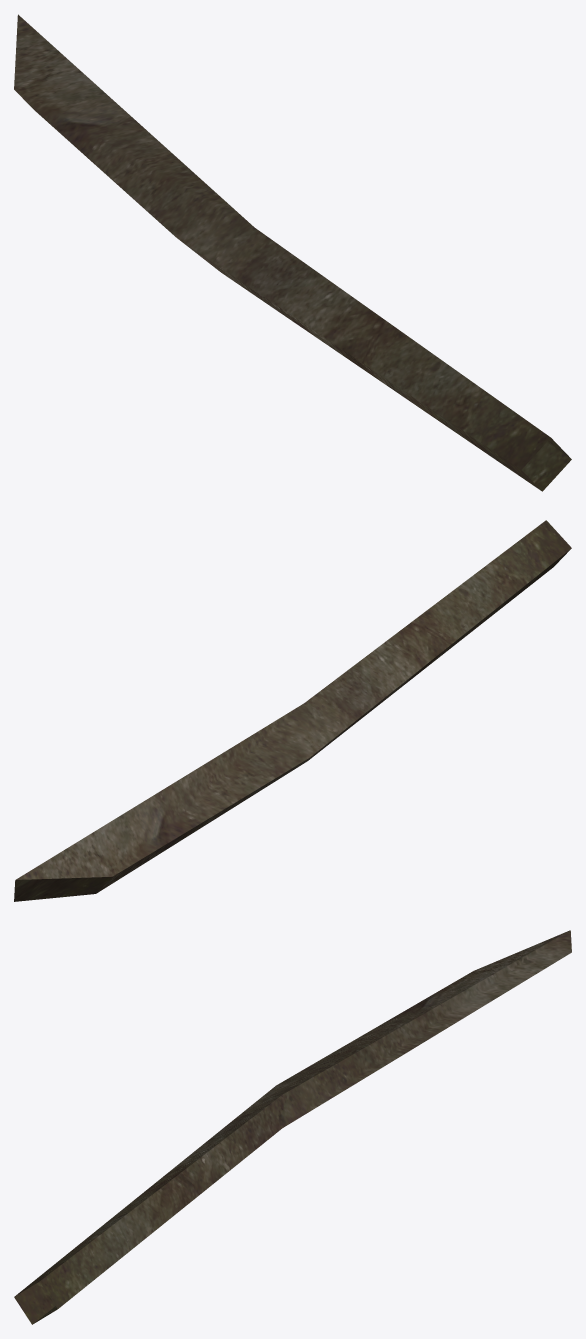
Rendered from TI_IronBar_05.fbx.
3 renders of one model, top to bottom at view 1: azimuth 30°, elevation 25°; view 2: azimuth 150°, elevation 25°; view 3: azimuth 330°, elevation 25°, orthographic. The views are drawn at different scales.
Parts seen in each view (by area): view 1: TI_IronBar_05; view 2: TI_IronBar_05; view 3: TI_IronBar_05.
Part boxes in pixels (x1=…): TI_IronBar_05: x1=14, y1=14, x2=571, y2=491; TI_IronBar_05: x1=14, y1=520, x2=571, y2=901; TI_IronBar_05: x1=14, y1=930, x2=571, y2=1324.
Size of the model in its own units: 0.09 by 0.0504 by 0.9709.
